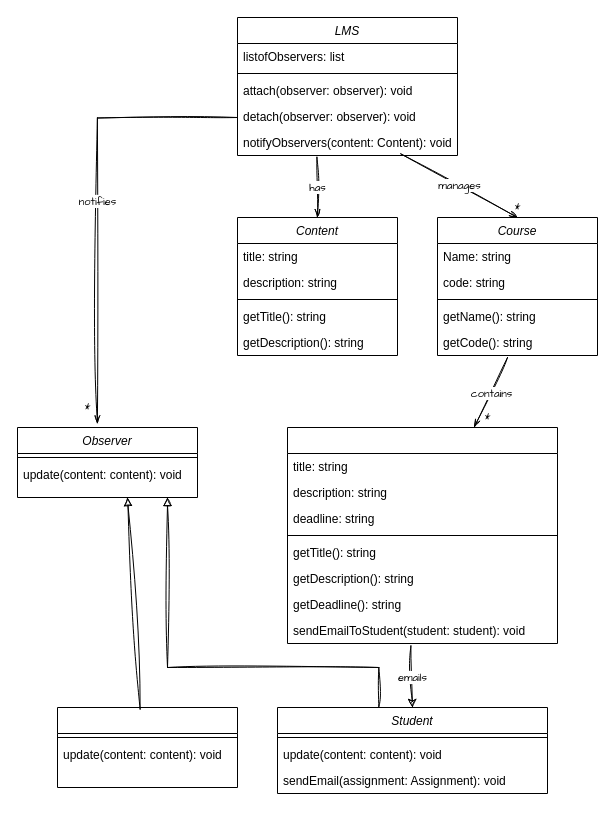
The diagram is 615 pixels wide and 814 high, and some of its shapes have lost their labels. The shapes that lost their labels are listed below. From the top down, each one's box as (x1, y1, x2, y2) in pixels, then its label:
(286, 426, 558, 644): Assignemnt
(56, 706, 238, 788): Teacher
